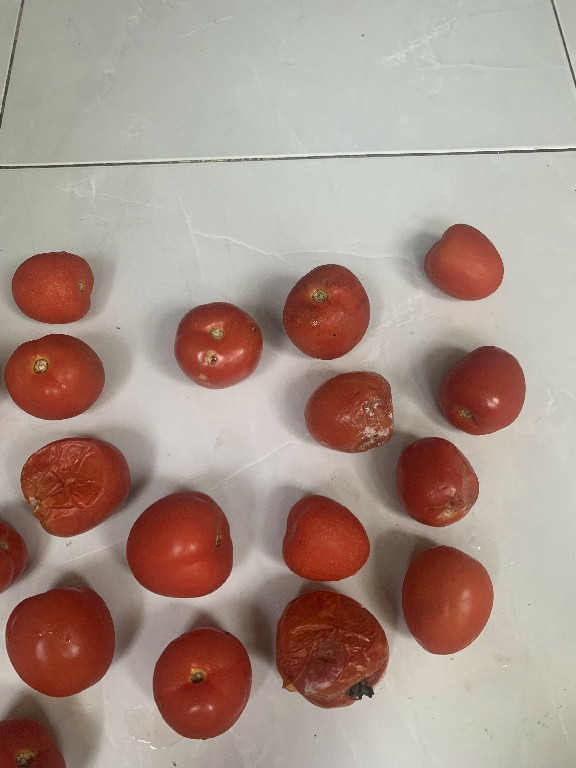NG: (275, 587, 388, 708), (7, 433, 131, 535), (168, 296, 264, 393), (300, 367, 396, 452), (397, 435, 484, 528)
OK: (122, 485, 243, 600), (1, 585, 119, 698), (149, 623, 258, 741), (396, 543, 500, 655), (0, 333, 113, 427), (276, 259, 372, 366), (271, 488, 376, 584), (433, 338, 532, 438), (8, 243, 100, 328), (420, 221, 507, 308)
